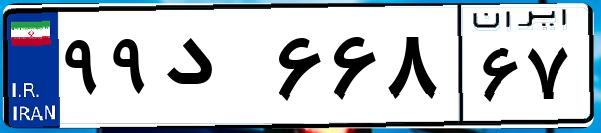6: (270, 28, 330, 110), (330, 28, 385, 110), (475, 38, 525, 113)
7: (525, 38, 570, 115)
8: (385, 28, 445, 110)
9: (57, 26, 110, 100), (110, 28, 158, 98)
د: (158, 20, 270, 120)
